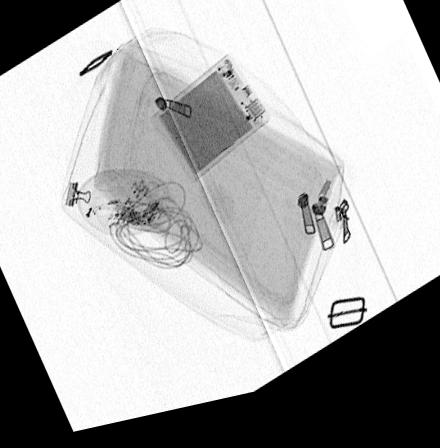Powerbank: (147, 63, 270, 193)
